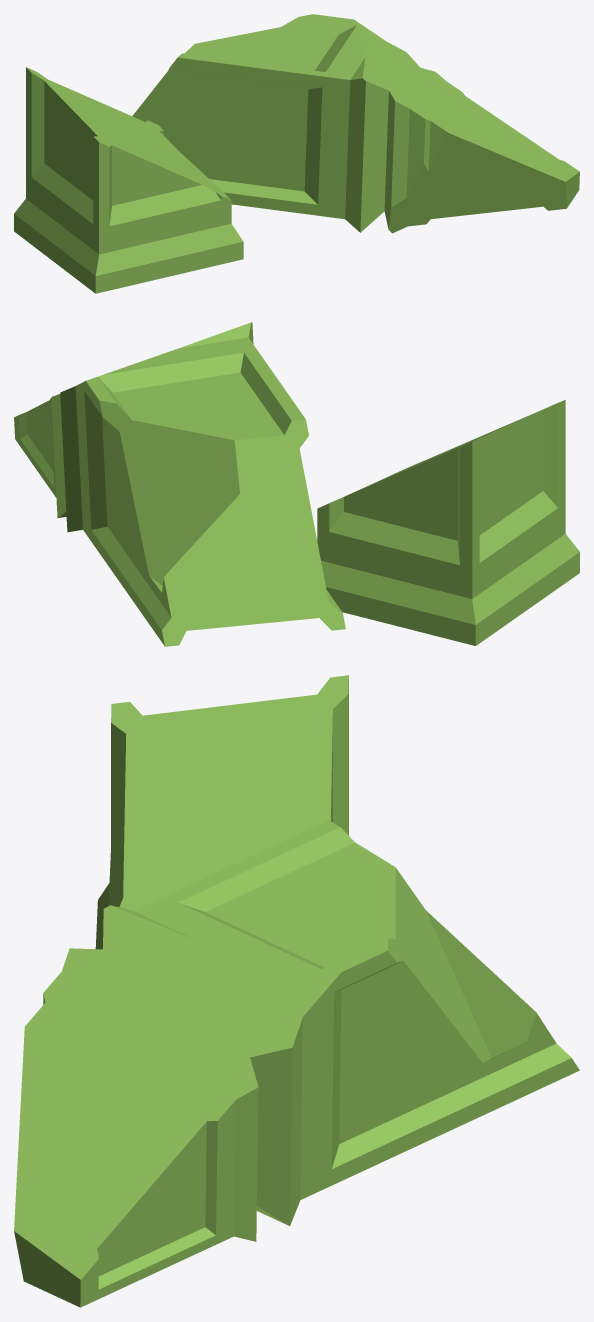
Rendered from BrokenBlock1.obj.
3 views of the same model, one above another, from view 1: azimuth 30°, elevation 25°; view 2: azimuth 150°, elevation 25°; view 3: azimuth 270°, elevation 25° (orthographic). The views are drawn at different scales.
Visible parts, largest first — view 1: BrokenBlock1; view 2: BrokenBlock1; view 3: BrokenBlock1.
Part boxes in pixels (<box>): BrokenBlock1: <box>14,14,579,293</box>; BrokenBlock1: <box>14,322,579,646</box>; BrokenBlock1: <box>14,675,579,1307</box>.
Bounding box in the file's own units: 14.5 × 5.13 × 9.46.
